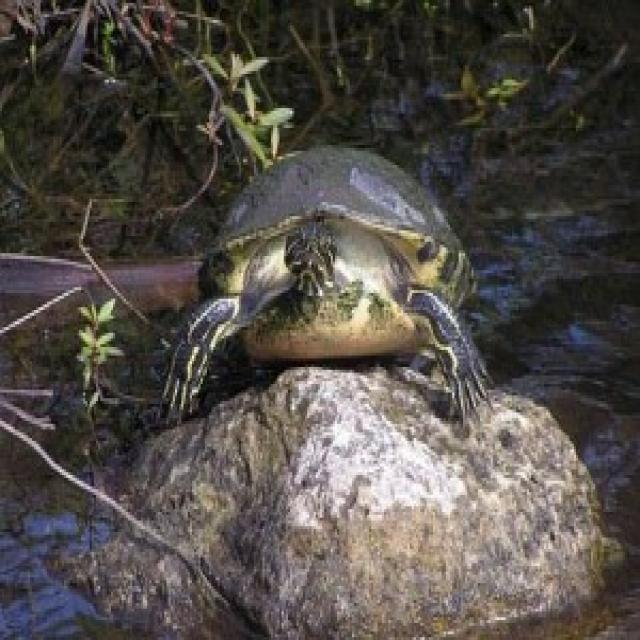Sea turtle: (172, 141, 477, 527)
